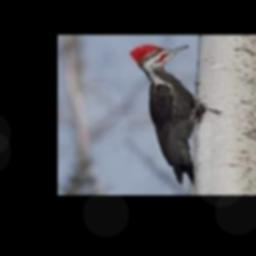Woodpecker: (129, 44, 202, 186)
